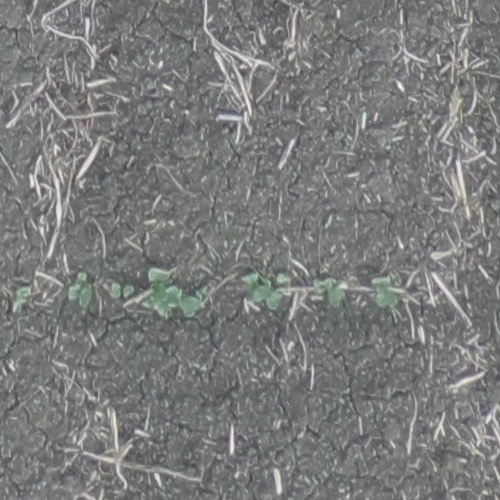plant: (146, 270, 204, 319), (242, 271, 289, 311), (314, 275, 346, 308), (69, 270, 95, 308), (371, 276, 401, 308), (13, 283, 35, 314), (111, 280, 135, 299)
